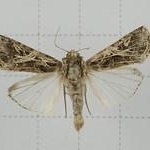Spodoptera litura: (0, 24, 149, 134)
